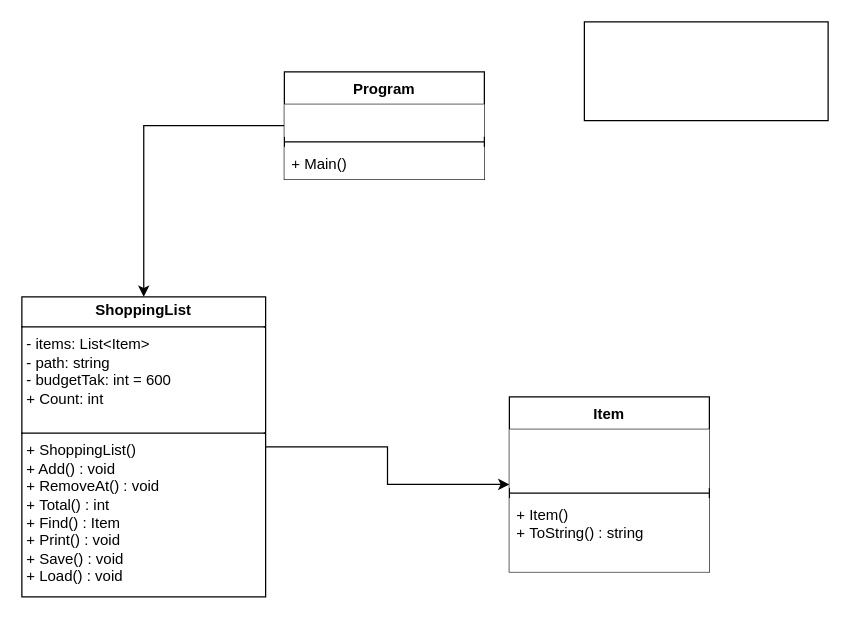
The diagram is 850 pixels wide and 619 high, and some of its shapes have lost their labels. The box of each missing label's shape, as (x1, y1, x2, y2) in pixels:
+ Name: string + Price: int: (509, 429, 709, 488)
Talha Malik kk2-robust-inkosplista: (583, 21, 828, 121)
